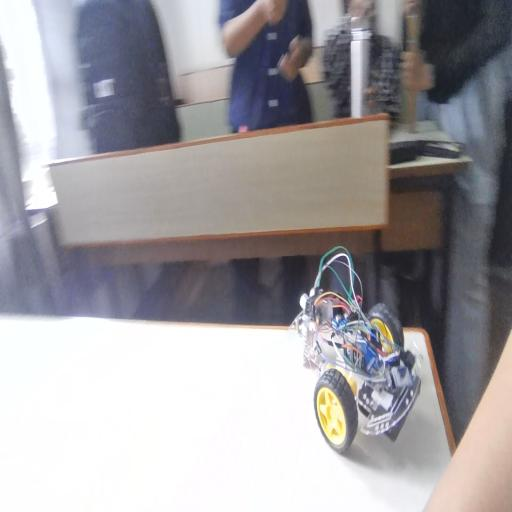car: (290, 254, 460, 501)
